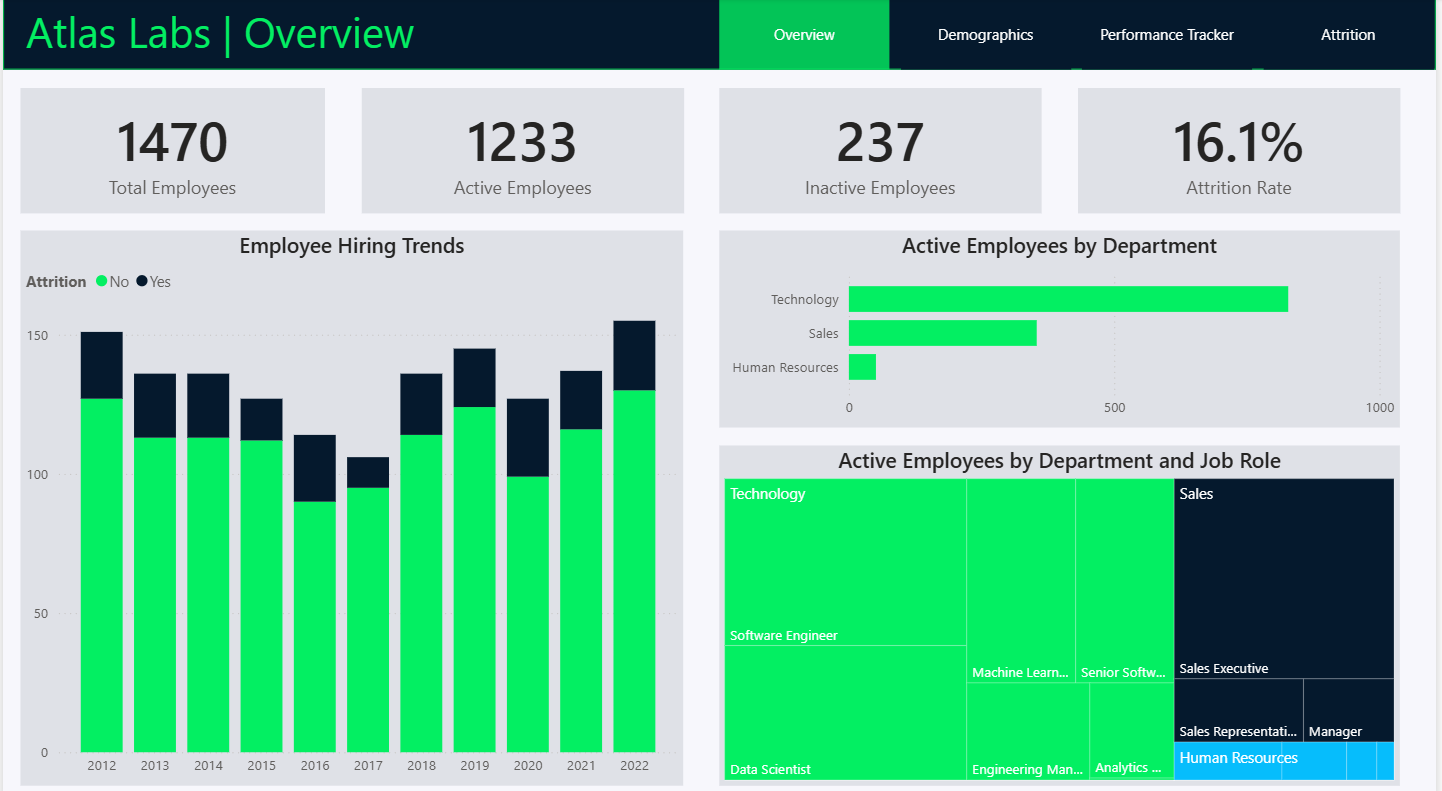

The dashboard page shown, as its layout file describes it:
{"tool":"powerbi","page":{"name":"Overview","canvas":[1280,720],"ordinal":0},"visuals":[{"type":"card","fields":{"Values":["_Measures.TotalEmployees"]},"box":[16,80,272,112],"z":0},{"type":"card","fields":{"Values":["_Measures.ActiveEmployees"]},"box":[320,80,288,112],"z":1000},{"type":"card","fields":{"Values":["_Measures.InactiveEmployees"]},"box":[640,80,288,112],"z":2000},{"type":"card","fields":{"Values":["_Measures.% Attrition Rate"]},"box":[960,80,288,112],"z":3000},{"type":"columnChart","title":"Employee Hiring Trends","fields":{"Category":["DimDate.Date.Variation.Date Hierarchy.Year","DimDate.Date.Variation.Date Hierarchy.Quarter","DimDate.Date.Variation.Date Hierarchy.Month","DimDate.Date.Variation.Date Hierarchy.Day"],"Y":["_Measures.TotalEmployeesDate"],"Series":["DimEmployee.Attrition"]},"box":[16,208,592,496],"z":4000},{"type":"clusteredBarChart","title":"Active Employees by Department","fields":{"Category":["DimEmployee.Department"],"Y":["_Measures.ActiveEmployees"]},"box":[640,208,608,176],"z":5000},{"type":"treemap","title":"Active Employees by Department and Job Role","fields":{"Values":["_Measures.ActiveEmployees"],"Group":["DimEmployee.Department"],"Details":["DimEmployee.JobRole"]},"box":[640,400,608,304],"z":6000},{"type":"shape","box":[0,0,1280,64],"z":7000},{"type":"textbox","box":[16,0,448,64],"z":8000},{"type":"pageNavigator","box":[640,0,640,64],"z":9000}]}

Visuals, with their boxes in screenshot pixels (x1, y1, x2, y2), scaled from the page's 1280x720 canvas onto the 1442x791 screenshot:
card - _Measures.TotalEmployees: pyautogui.locateOnScreen(18, 88, 324, 211)
card - _Measures.ActiveEmployees: pyautogui.locateOnScreen(360, 88, 685, 211)
card - _Measures.InactiveEmployees: pyautogui.locateOnScreen(721, 88, 1045, 211)
card - _Measures.% Attrition Rate: pyautogui.locateOnScreen(1082, 88, 1406, 211)
"Employee Hiring Trends" columnChart: pyautogui.locateOnScreen(18, 229, 685, 773)
"Active Employees by Department" clusteredBarChart: pyautogui.locateOnScreen(721, 229, 1406, 422)
"Active Employees by Department and Job Role" treemap: pyautogui.locateOnScreen(721, 439, 1406, 773)
shape: pyautogui.locateOnScreen(0, 0, 1441, 70)
textbox: pyautogui.locateOnScreen(18, 0, 523, 70)
pageNavigator: pyautogui.locateOnScreen(721, 0, 1441, 70)
